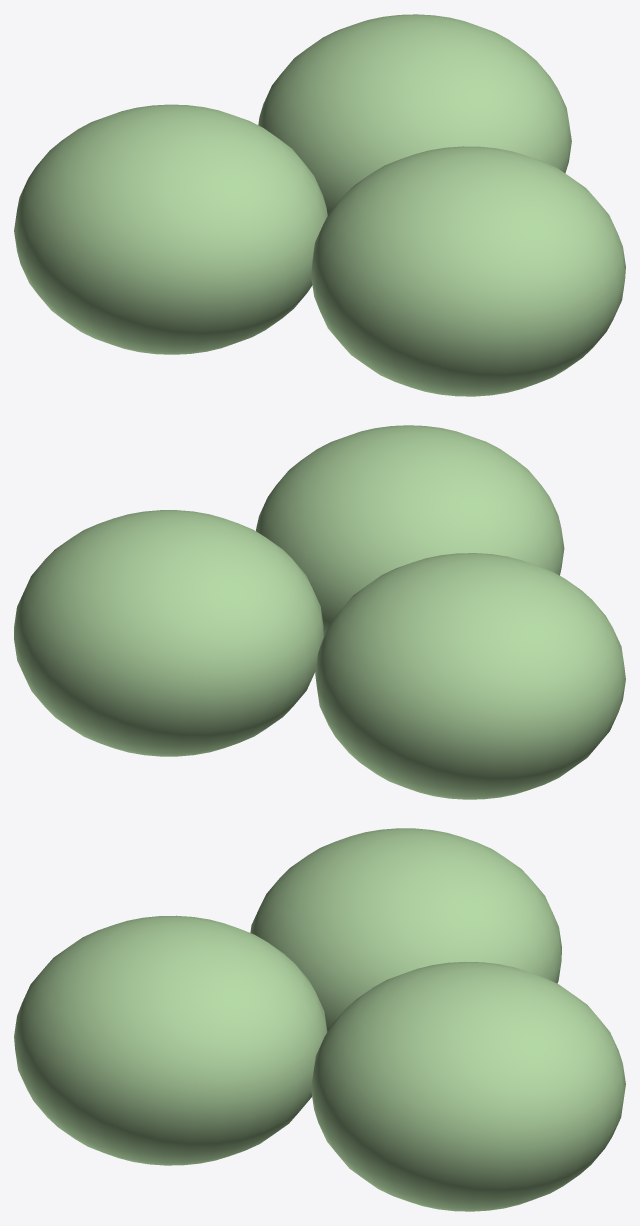
File: cookedondeh3.fbx
3 views of the same model, one above another, from view 1: azimuth 30°, elevation 25°; view 2: azimuth 150°, elevation 25°; view 3: azimuth 270°, elevation 25° (orthographic).
Parts seen in each view (by area): view 1: Sphere.045, Sphere.044, Sphere.047; view 2: Sphere.044, Sphere.047, Sphere.045; view 3: Sphere.047, Sphere.045, Sphere.044.
Part boxes in pixels (bbox=[...]): Sphere.045: bbox=[311, 146, 625, 396]; Sphere.044: bbox=[14, 104, 327, 354]; Sphere.047: bbox=[258, 14, 571, 215]; Sphere.044: bbox=[315, 553, 625, 799]; Sphere.047: bbox=[14, 510, 323, 756]; Sphere.045: bbox=[256, 425, 564, 636]; Sphere.047: bbox=[311, 961, 625, 1211]; Sphere.045: bbox=[14, 915, 327, 1165]; Sphere.044: bbox=[250, 828, 561, 1031].
Bounding box in the file's own units: 130 × 48.17 × 126.
